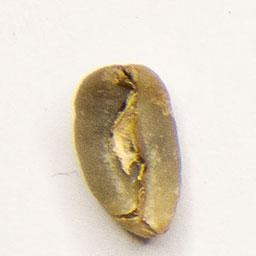longberry: (70, 60, 187, 243)
